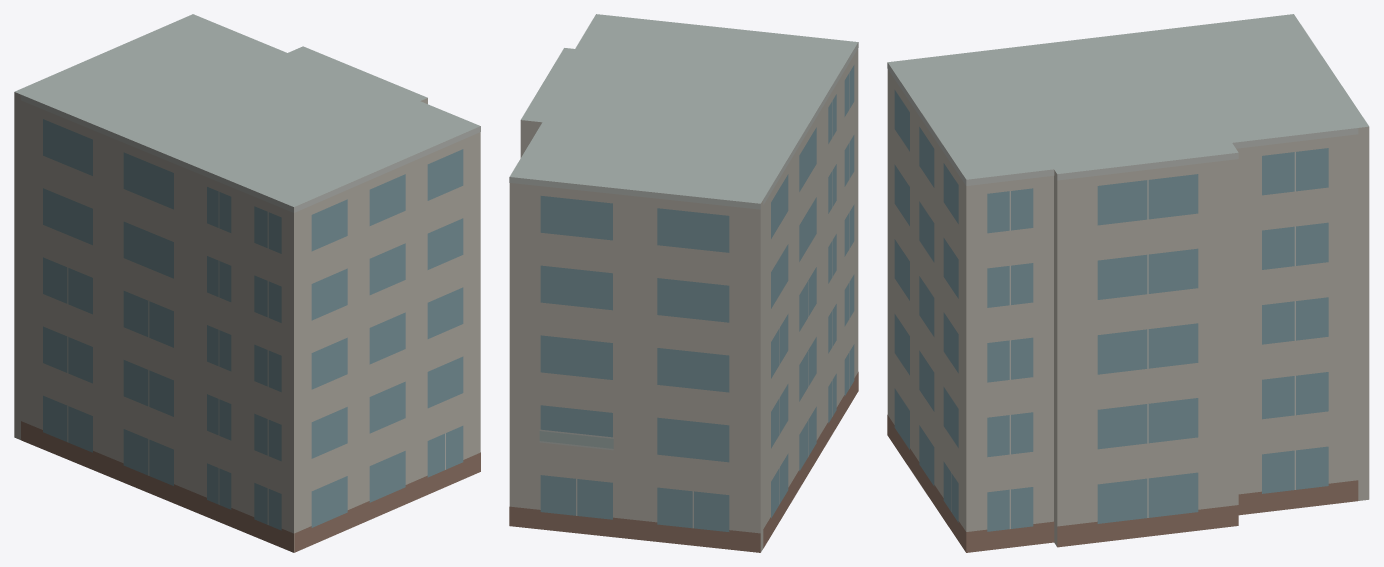
The model's file is survey-upis-32605729.glb.
3 renders of one model, left to right at view 1: azimuth 30°, elevation 25°; view 2: azimuth 150°, elevation 25°; view 3: azimuth 270°, elevation 25°, orthographic. The views are drawn at different scales.
Parts seen in each view (by area): view 1: survey-upis-32605729.tmp; view 2: survey-upis-32605729.tmp; view 3: survey-upis-32605729.tmp.
Part boxes in pixels (x1,y1,x2,y2): survey-upis-32605729.tmp: (14, 14, 480, 552); survey-upis-32605729.tmp: (509, 14, 858, 552); survey-upis-32605729.tmp: (887, 14, 1369, 552).
Bounding box in the file's own units: 13.73 × 14.4 × 16.86.
